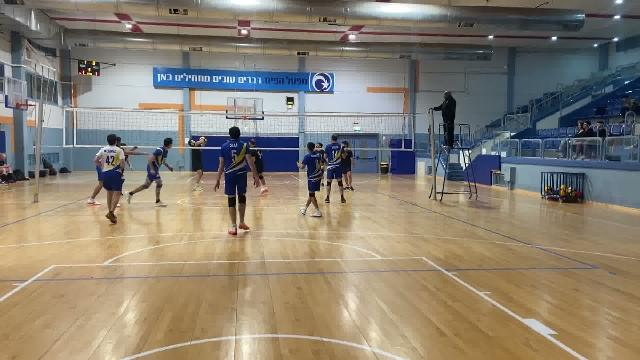ball: (198, 135, 207, 144)
